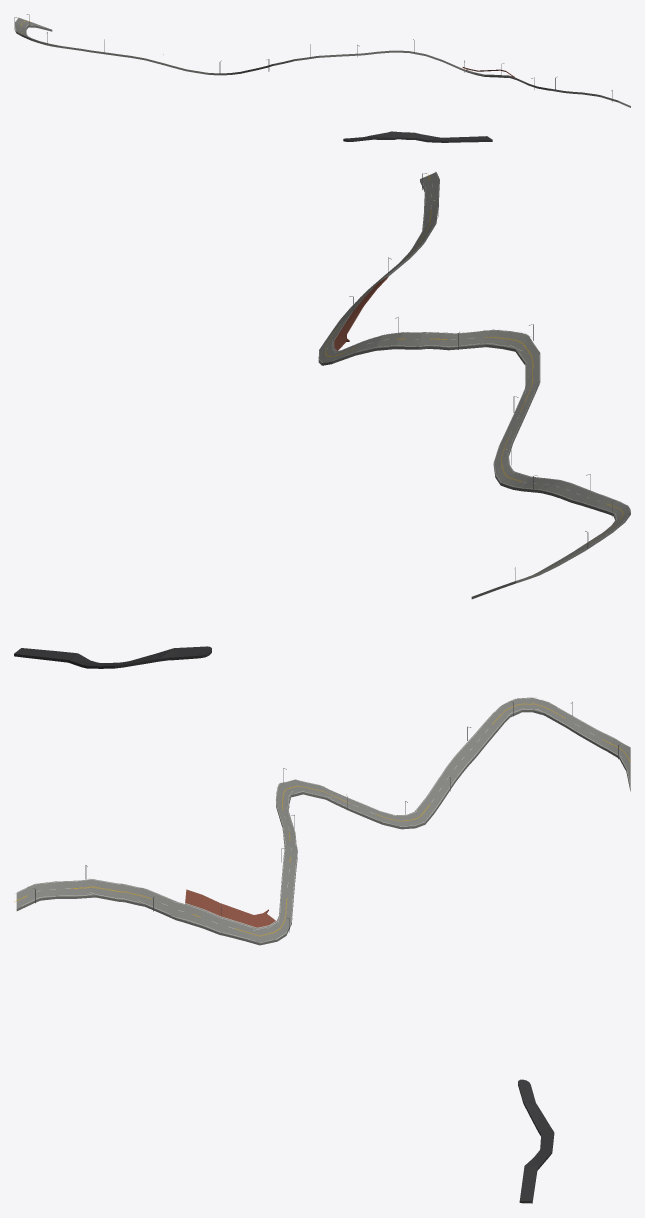
3 views of the same model, one above another, from view 1: azimuth 30°, elevation 25°; view 2: azimuth 150°, elevation 25°; view 3: azimuth 270°, elevation 25° (orthographic). The views are drawn at different scales.
Bounding box in the file's own units: 291 × 145 × 293.
